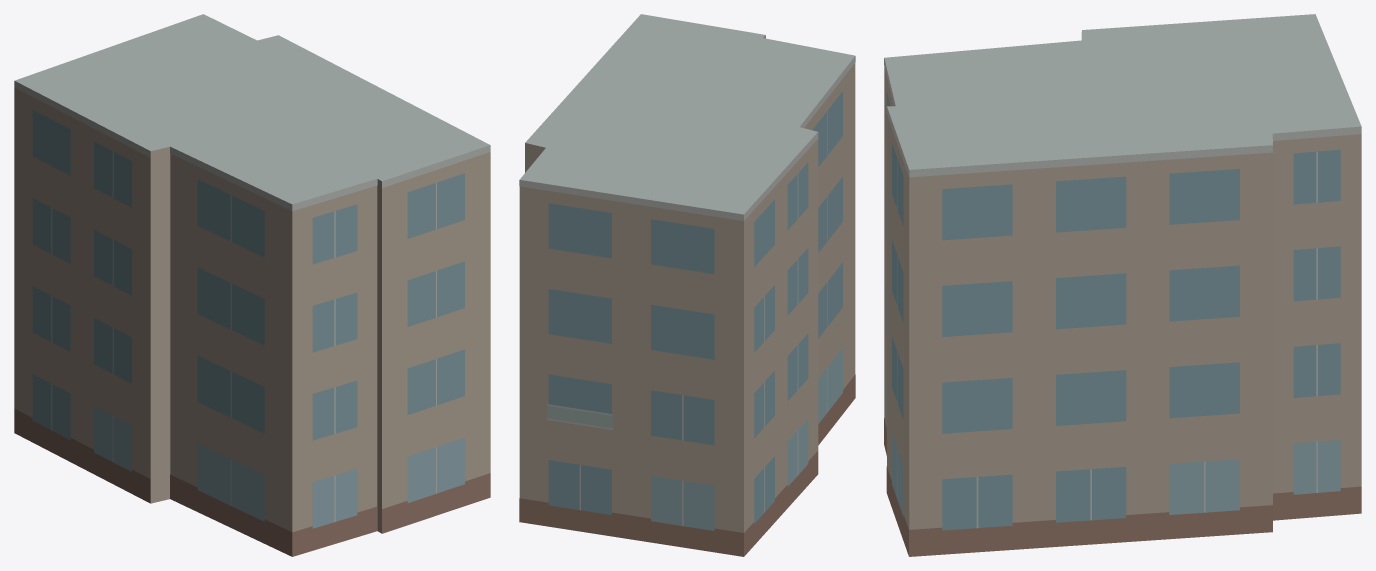
The model's file is survey-upis-32618602.glb.
3 views of the same model, side by side, from view 1: azimuth 30°, elevation 25°; view 2: azimuth 150°, elevation 25°; view 3: azimuth 270°, elevation 25° (orthographic). The views are drawn at different scales.
Parts seen in each view (by area): view 1: survey-upis-32618602.tmp; view 2: survey-upis-32618602.tmp; view 3: survey-upis-32618602.tmp.
Part boxes in pixels (x1,y1,x2,y2): survey-upis-32618602.tmp: (14,14,490,556); survey-upis-32618602.tmp: (519,14,855,556); survey-upis-32618602.tmp: (884,14,1361,556).
Size of the model in its own units: 10.99 by 12.7 by 14.21.
